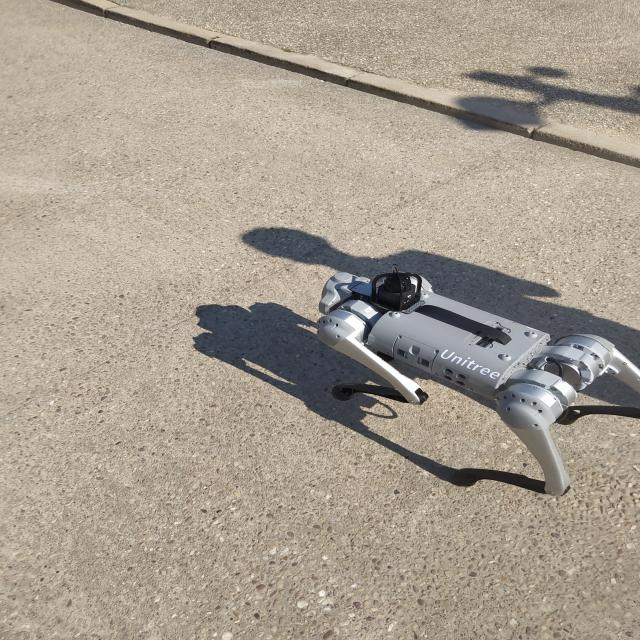unitree-go1-robot: (289, 256, 640, 505)
